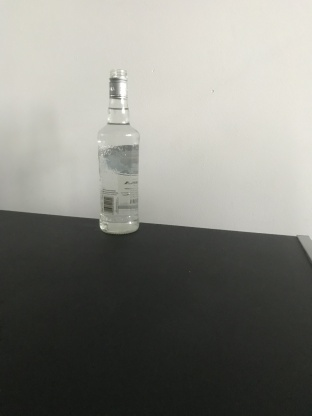nakretka: (107, 66, 129, 100)
